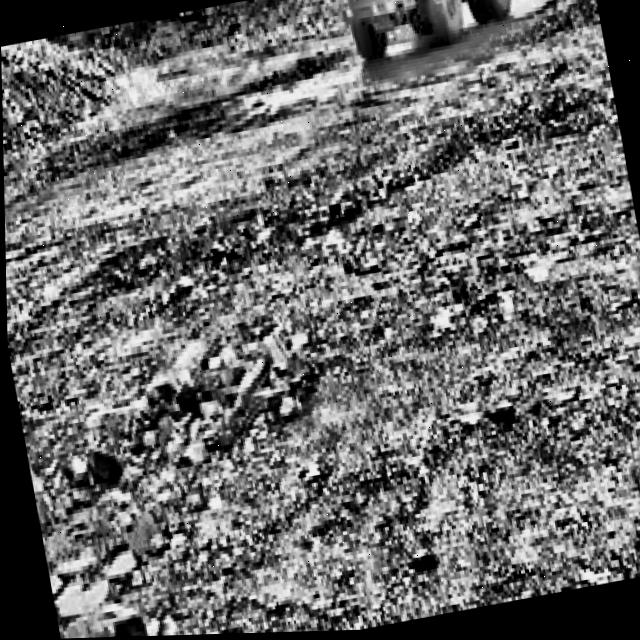dump_truck: (327, 0, 533, 60)
